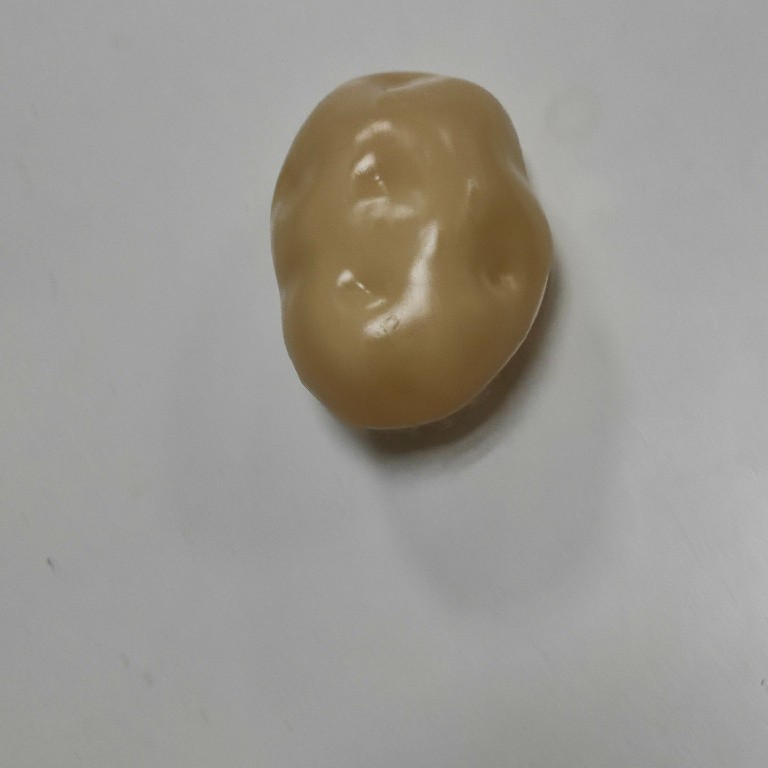fruit_potato: (263, 66, 556, 437)
